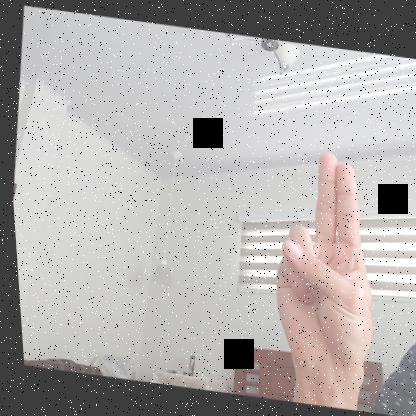U: (250, 146, 395, 390)
